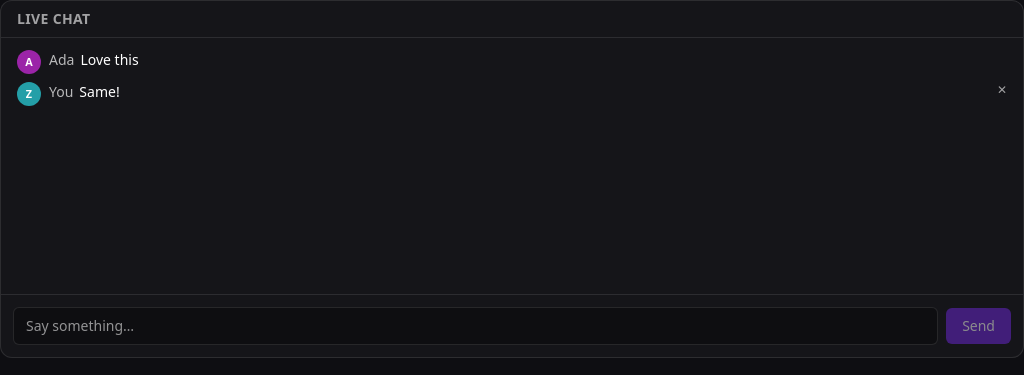
LiveChat › lets you remove your own comments, and the host remove anyone's
Expected: the text "Love this" is shown, [80,50,139,69]
Click the button named "Delete comment": (1002, 90) [997,82,1007,98]
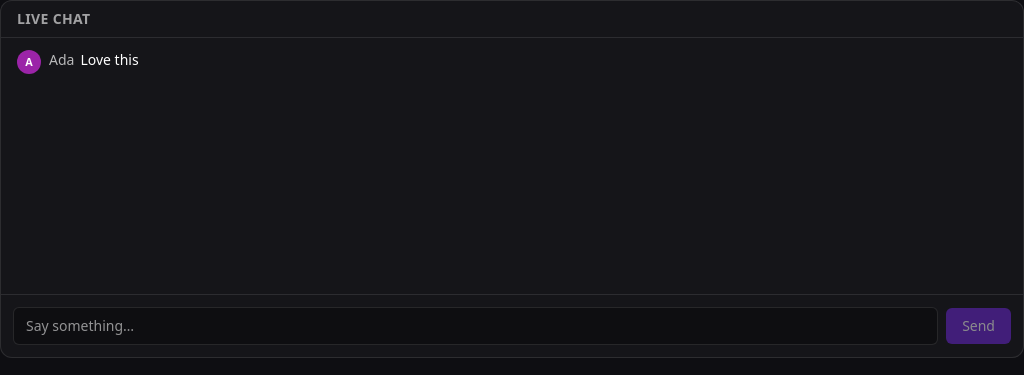
Result: the text "Same!" is gone
